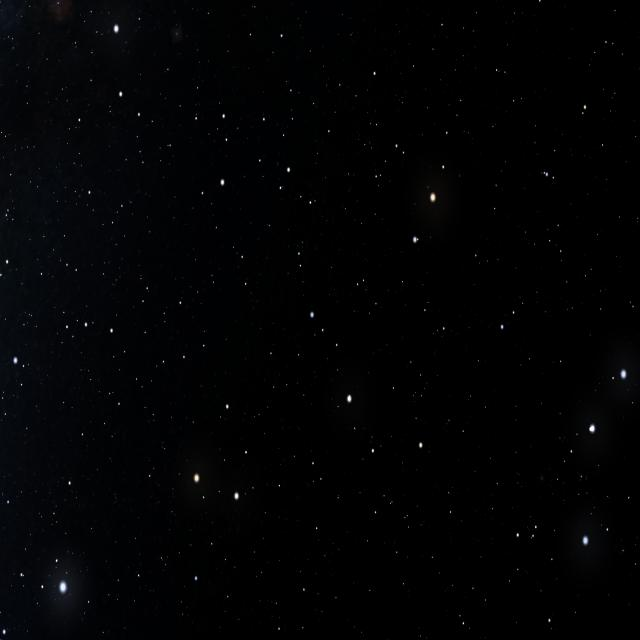Draco: (189, 96, 589, 510)
